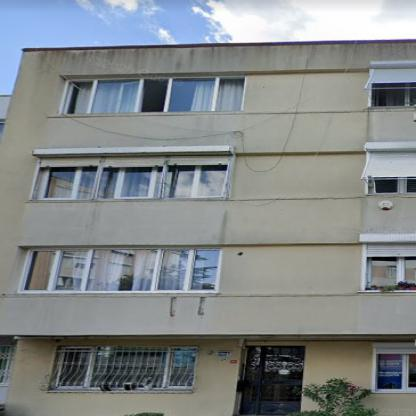door: (244, 347, 304, 414)
window: (24, 249, 219, 292), (63, 76, 244, 113), (42, 167, 228, 198), (51, 348, 196, 386), (374, 347, 413, 391), (366, 257, 415, 289), (374, 82, 415, 106), (370, 178, 414, 193)
